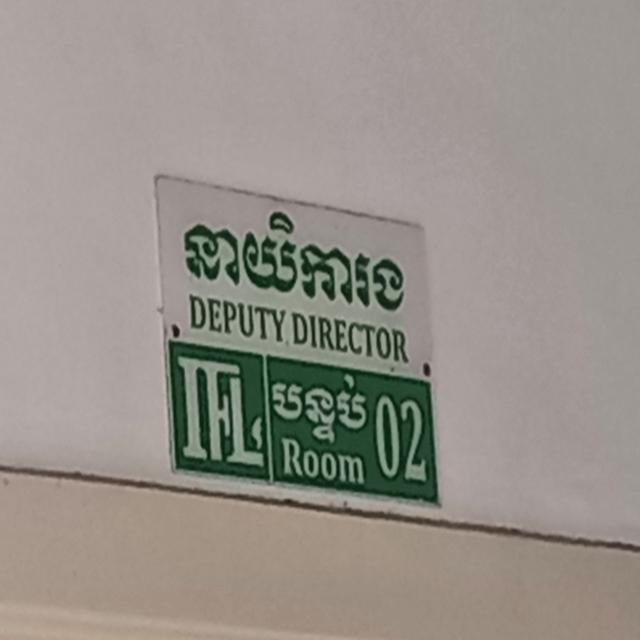Yolov11kh: (178, 191, 413, 310), (268, 364, 367, 448)
